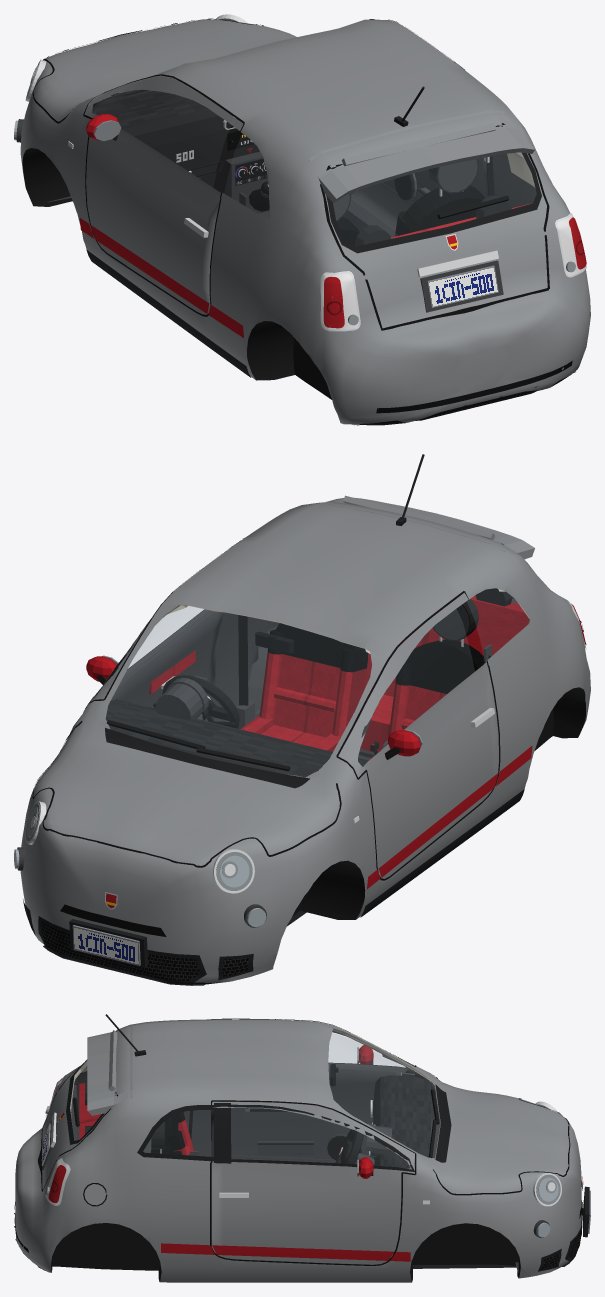
Rendered from abarth695.glb.
3 renders of one model, top to bottom at view 1: azimuth 30°, elevation 25°; view 2: azimuth 150°, elevation 25°; view 3: azimuth 270°, elevation 25°, orthographic. The views are drawn at different scales.
Parts seen in each view (by area): view 1: Body, Door_L, Interior, Glass, Door_L_Glass, Door_R, Lights_Tail; view 2: Body, Glass, Interior, Door_L, Door_L_Glass, Door_R, SteeringWheel, Lights_Head; view 3: Body, Door_R, Glass, Door_L, Interior, Door_R_Glass, SteeringWheel, Lights_Head, Lights_Tail.
Part boxes in pixels (x1,y1,x2,y2): Body: (16,14,590,425); Door_L: (84,76,243,314); Interior: (95,91,532,246); Glass: (225,134,535,245); Door_L_Glass: (93,90,230,186); Door_R: (383,66,488,203); Lights_Tail: (323,217,586,328); Body: (17,454,590,985); Glass: (106,589,528,776); Interior: (105,588,529,777); Door_L: (338,593,498,878); Door_L_Glass: (358,609,474,765); Door_R: (84,570,223,721); SteeringWheel: (162,675,239,728); Lights_Head: (14,807,266,927); Body: (14,1014,590,1282); Door_R: (211,1101,414,1264); Glass: (71,1030,439,1157); Door_L: (211,1030,414,1160); Interior: (71,1064,430,1239); Door_R_Glass: (231,1108,409,1167); SteeringWheel: (335,1129,363,1163); Lights_Head: (537,1177,558,1237); Lights_Tail: (48,1078,66,1202).
Size of the model in its own units: 1.88 by 1.59 by 3.69.
Materials: 44 (15 with a texture image).
